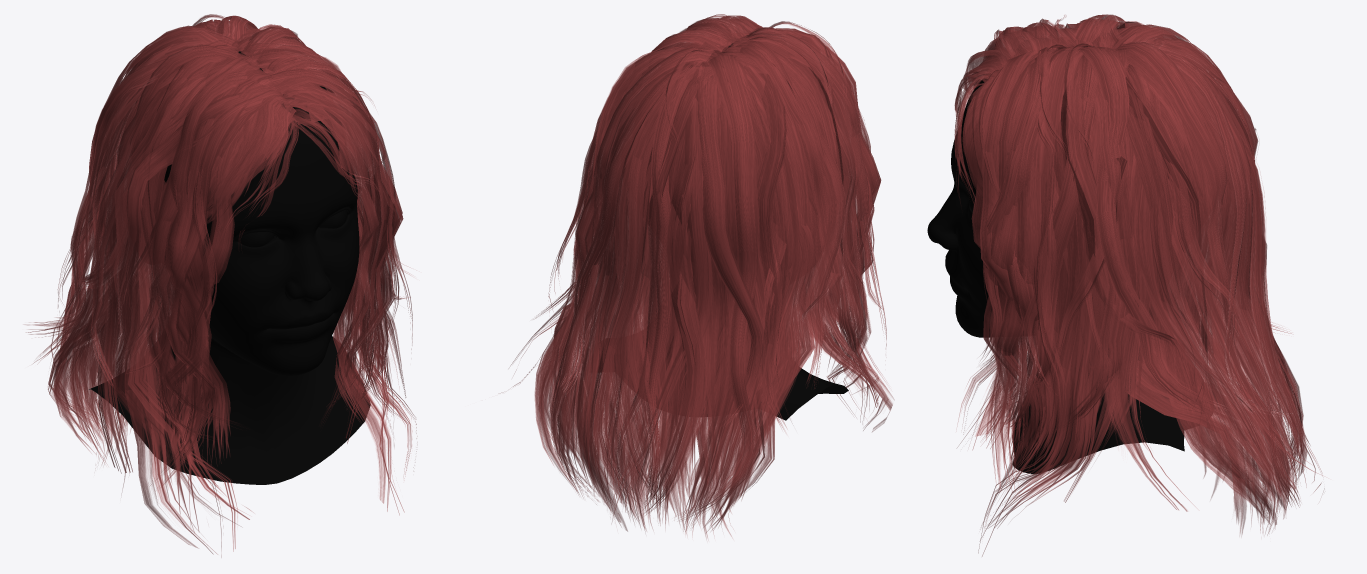
The model's file is long_reddish_hair_for_game.glb.
3 views of the same model, side by side, from view 1: azimuth 30°, elevation 25°; view 2: azimuth 150°, elevation 25°; view 3: azimuth 270°, elevation 25° (orthographic). The views are drawn at different scales.
Parts seen in each view (by area): view 1: Object_3, Object_4, Object_2; view 2: Object_3, Object_4, Object_5, Object_2; view 3: Object_3, Object_4, Object_2, Object_5.
Boxes of the visible parts, x1=… form: Object_3: x1=24, y1=15, x2=406, y2=531; Object_4: x1=48, y1=14, x2=416, y2=557; Object_2: x1=89, y1=51, x2=370, y2=484; Object_3: x1=511, y1=15, x2=885, y2=530; Object_4: x1=534, y1=14, x2=894, y2=538; Object_5: x1=550, y1=272, x2=733, y2=536; Object_2: x1=626, y1=35, x2=848, y2=420; Object_3: x1=971, y1=14, x2=1320, y2=523; Object_4: x1=954, y1=15, x2=1324, y2=556; Object_2: x1=927, y1=46, x2=1211, y2=473; Object_5: x1=1022, y1=184, x2=1285, y2=524.
Bounding box in the file's own units: 30.29 × 42.23 × 31.15.
Materials: 2 (1 with a texture image).
